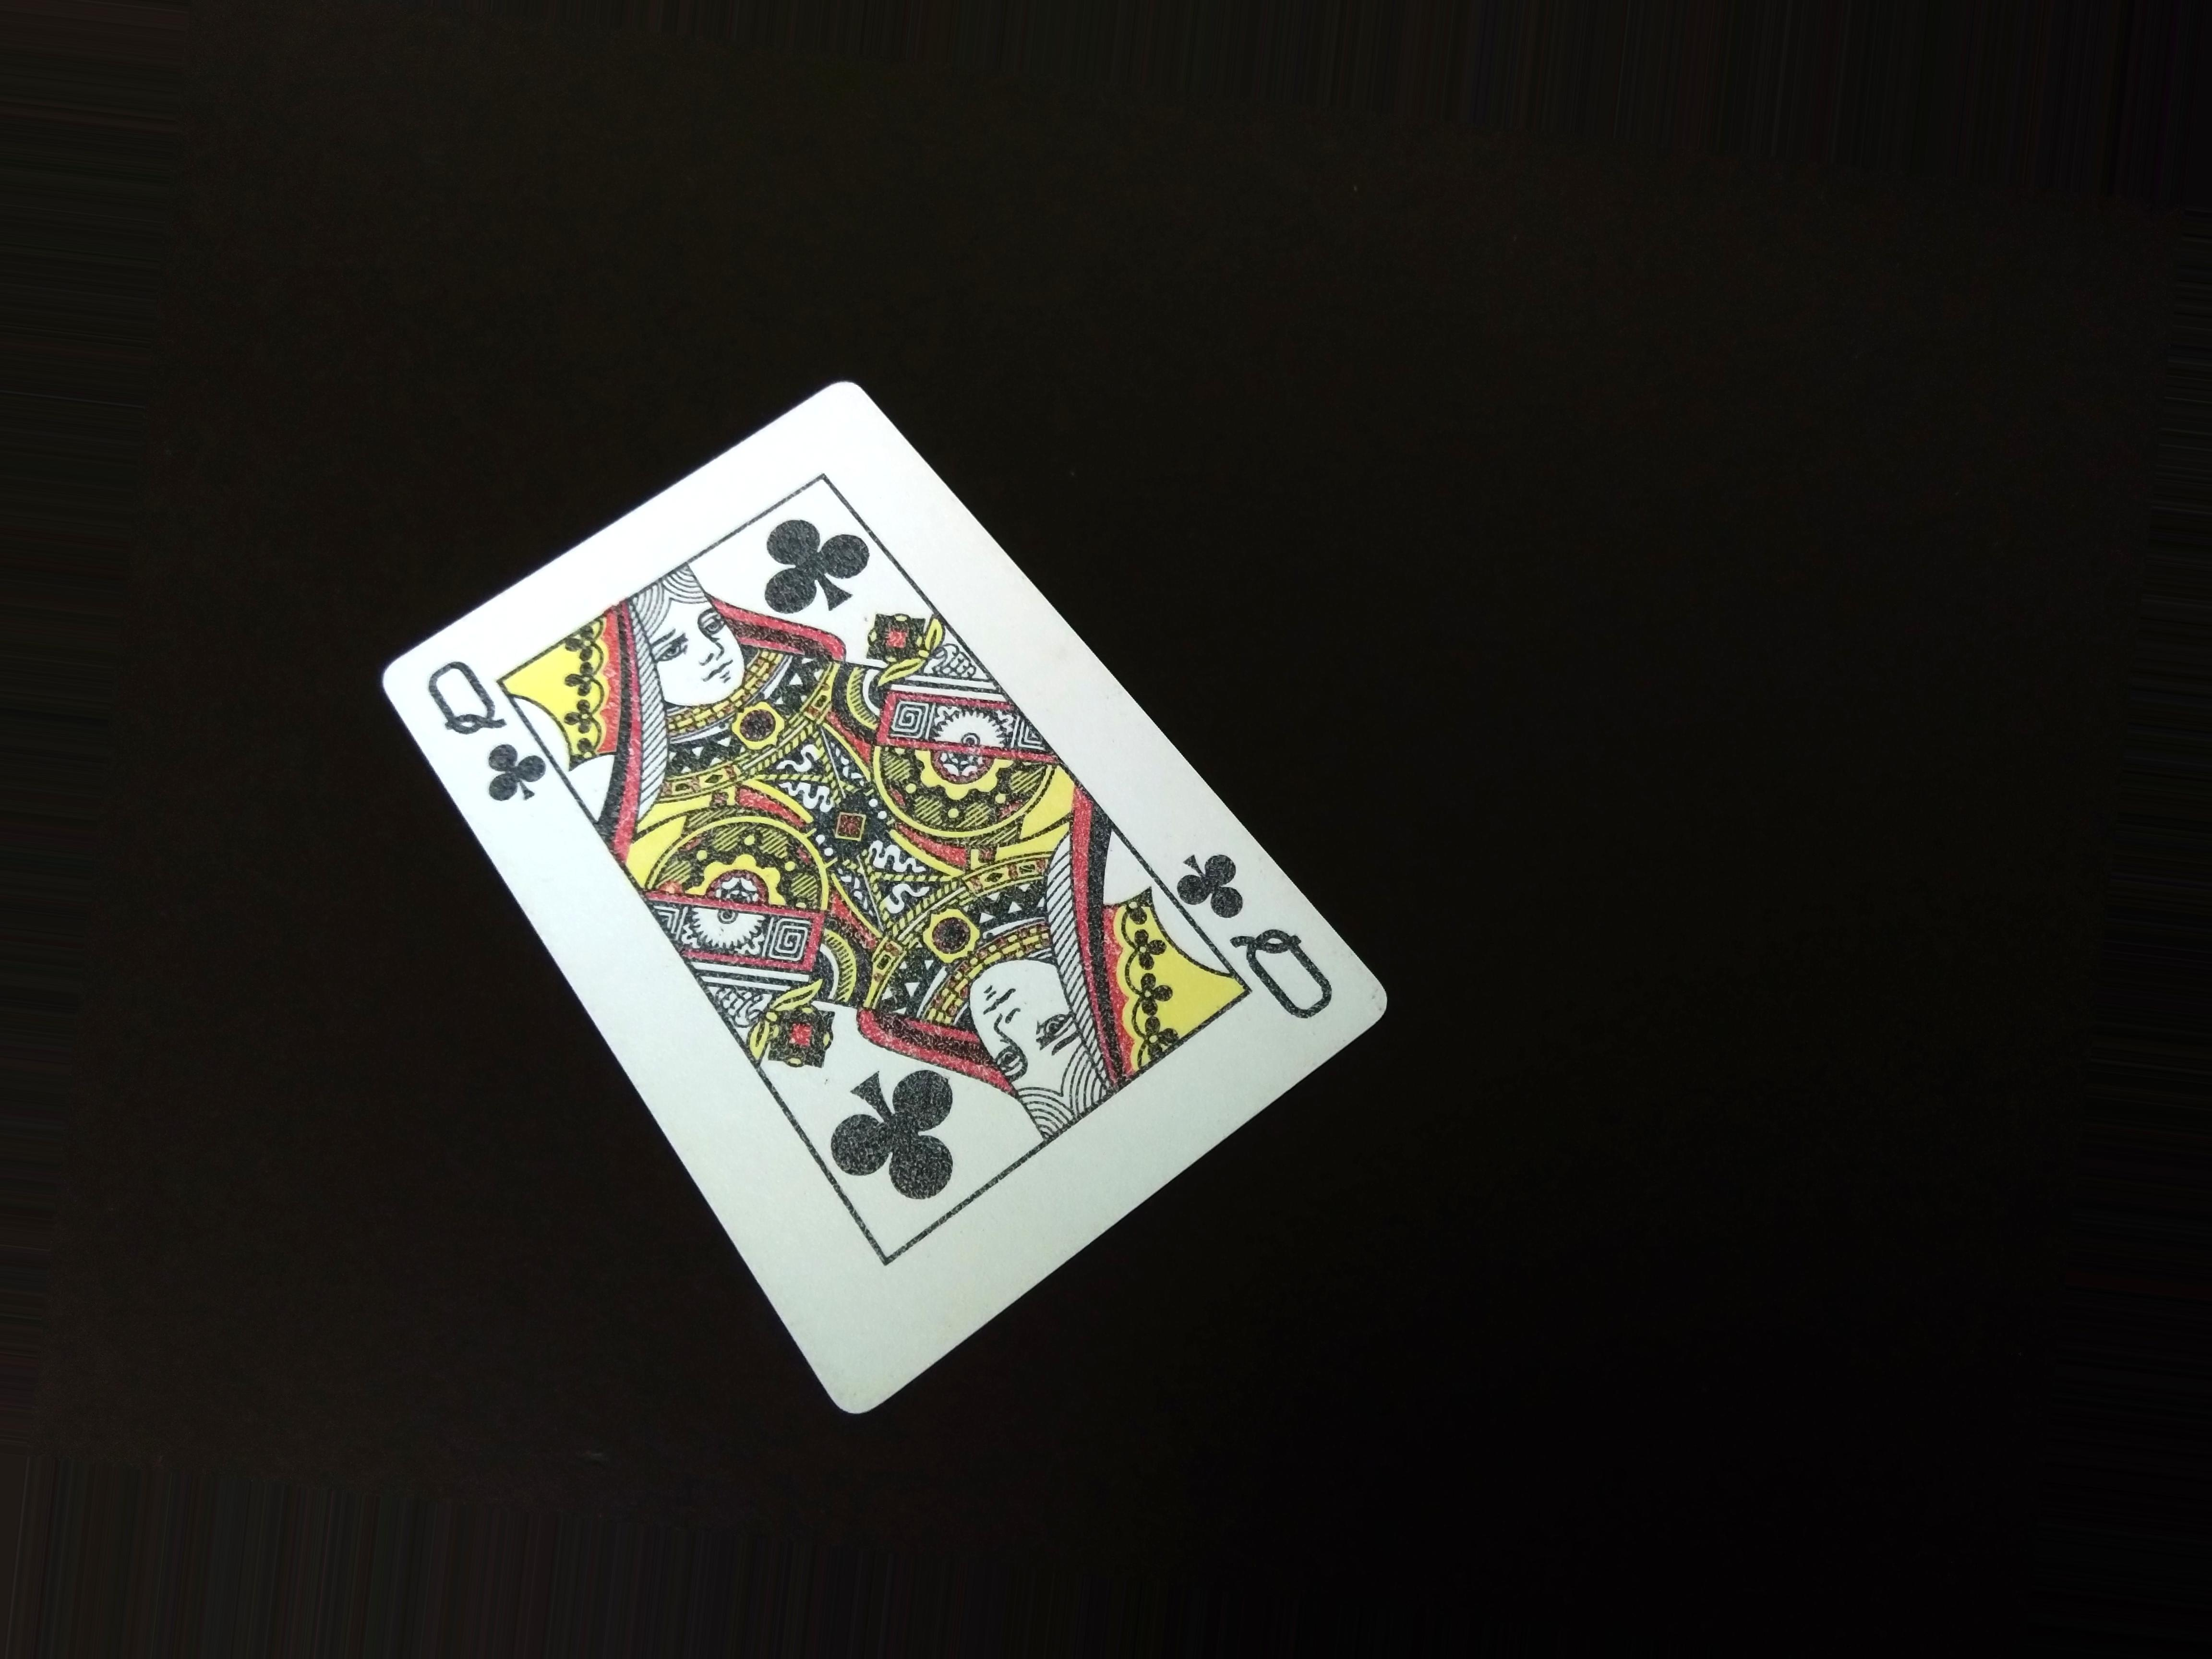QC: (1160, 817, 1334, 1028)
